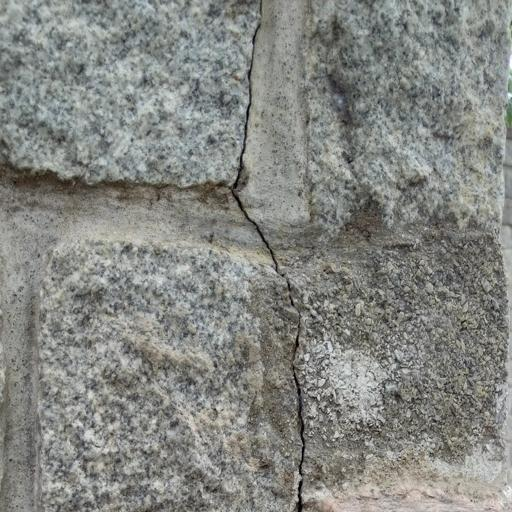minor_crack: (225, 0, 314, 512)
